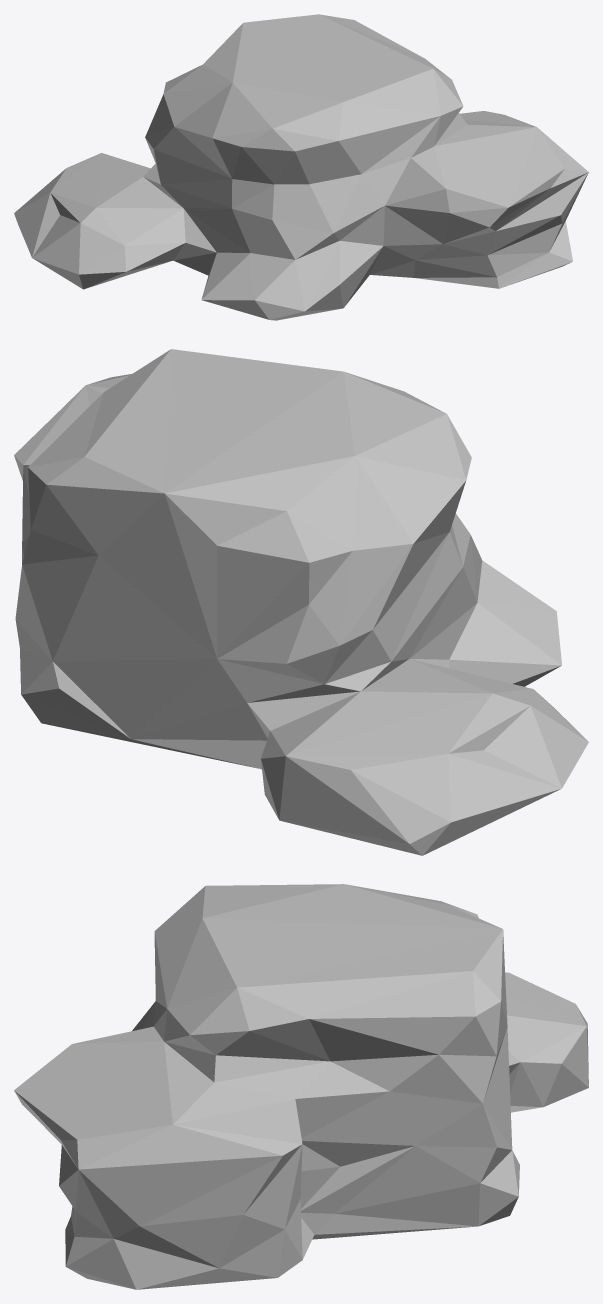
The model's file is Pedra2.fbx.
3 views of the same model, one above another, from view 1: azimuth 30°, elevation 25°; view 2: azimuth 150°, elevation 25°; view 3: azimuth 270°, elevation 25° (orthographic). The views are drawn at different scales.
Parts seen in each view (by area): view 1: Pedra4; view 2: Pedra4; view 3: Pedra4.
Boxes of the visible parts, <box> form: Pedra4: <box>14,14,588,320</box>; Pedra4: <box>14,349,588,855</box>; Pedra4: <box>14,884,588,1289</box>.
Bounding box in the file's own units: 408 × 166 × 346.
Materials: 1 (1 with a texture image).
